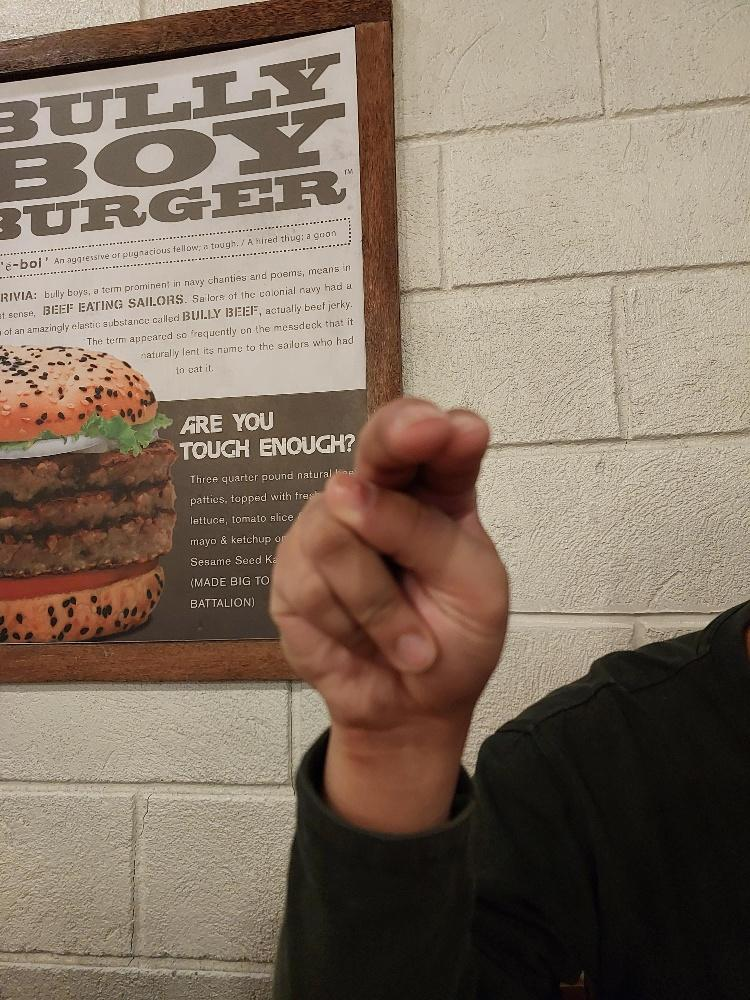n: (267, 390, 511, 732)
